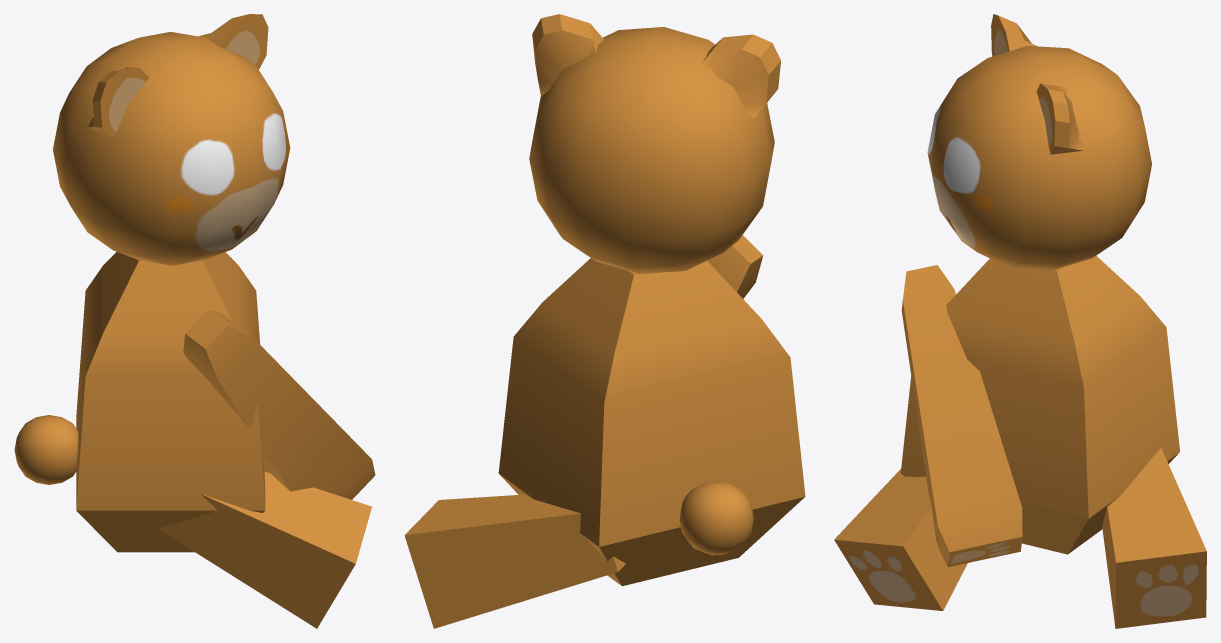
File: player2.obj
3 views of the same model, side by side, from view 1: azimuth 30°, elevation 25°; view 2: azimuth 150°, elevation 25°; view 3: azimuth 270°, elevation 25° (orthographic). The views are drawn at different scales.
Visible parts, largest first — view 1: Body.001; view 2: Body.001; view 3: Body.001.
Boxes of the visible parts, x1,y1,x2,y2 form: Body.001: (14, 14, 375, 628); Body.001: (404, 14, 805, 628); Body.001: (834, 14, 1206, 628).
Bounding box in the file's own units: 0.3592 × 0.659 × 0.4236.
